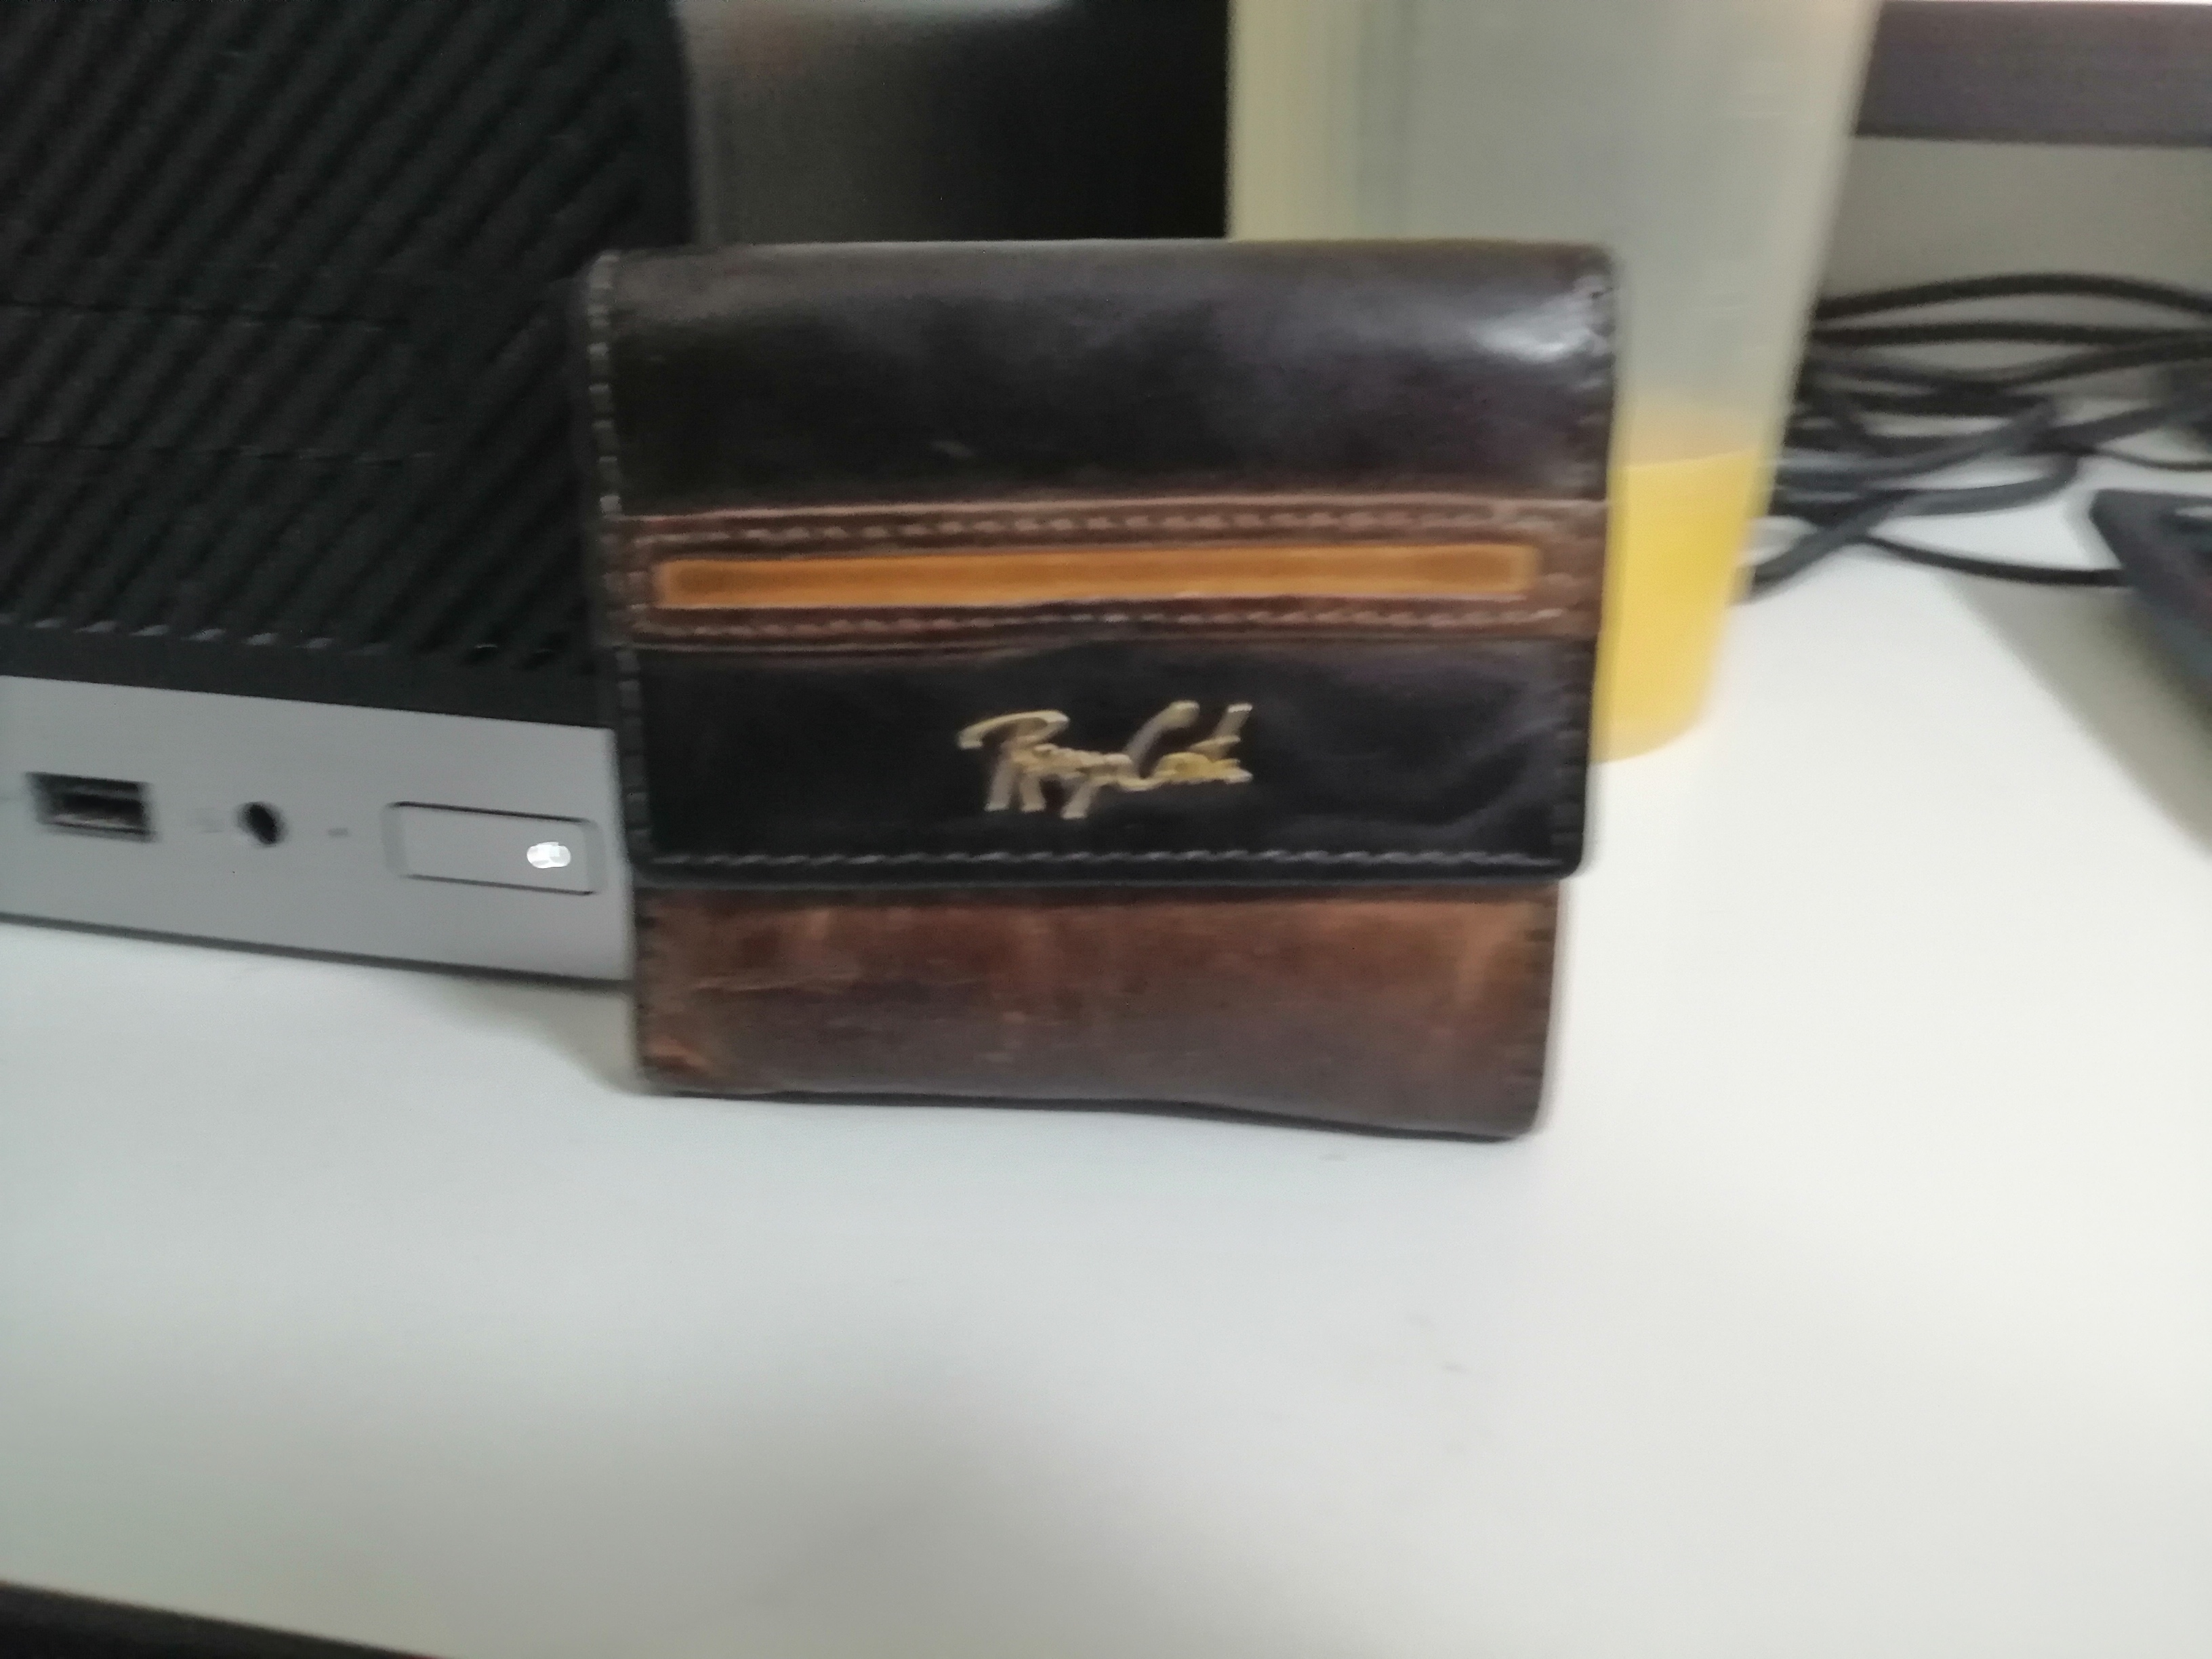monedero: (540, 211, 1665, 1211)
